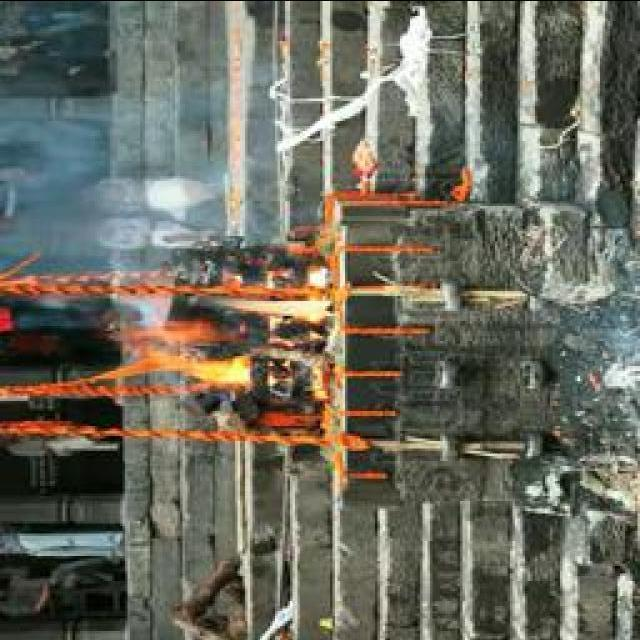Fire: (131, 289, 334, 394)
